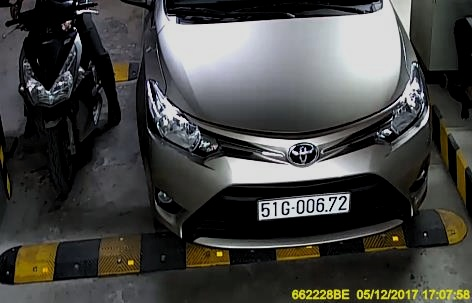plate: (253, 190, 355, 221)
